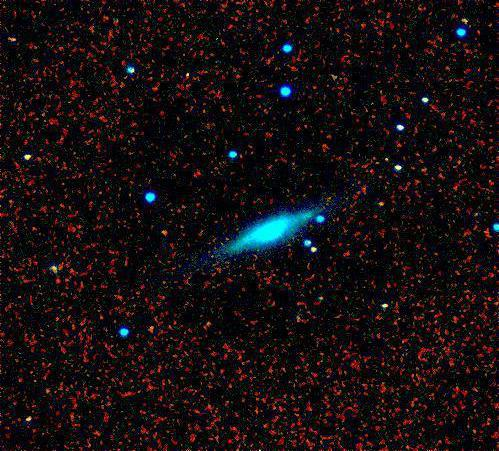star: (365, 192, 395, 222)
